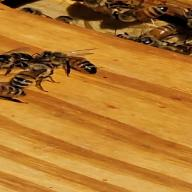Bee: (40, 48, 101, 80), (8, 62, 65, 96), (132, 21, 188, 51), (107, 3, 177, 22), (0, 82, 38, 104)
